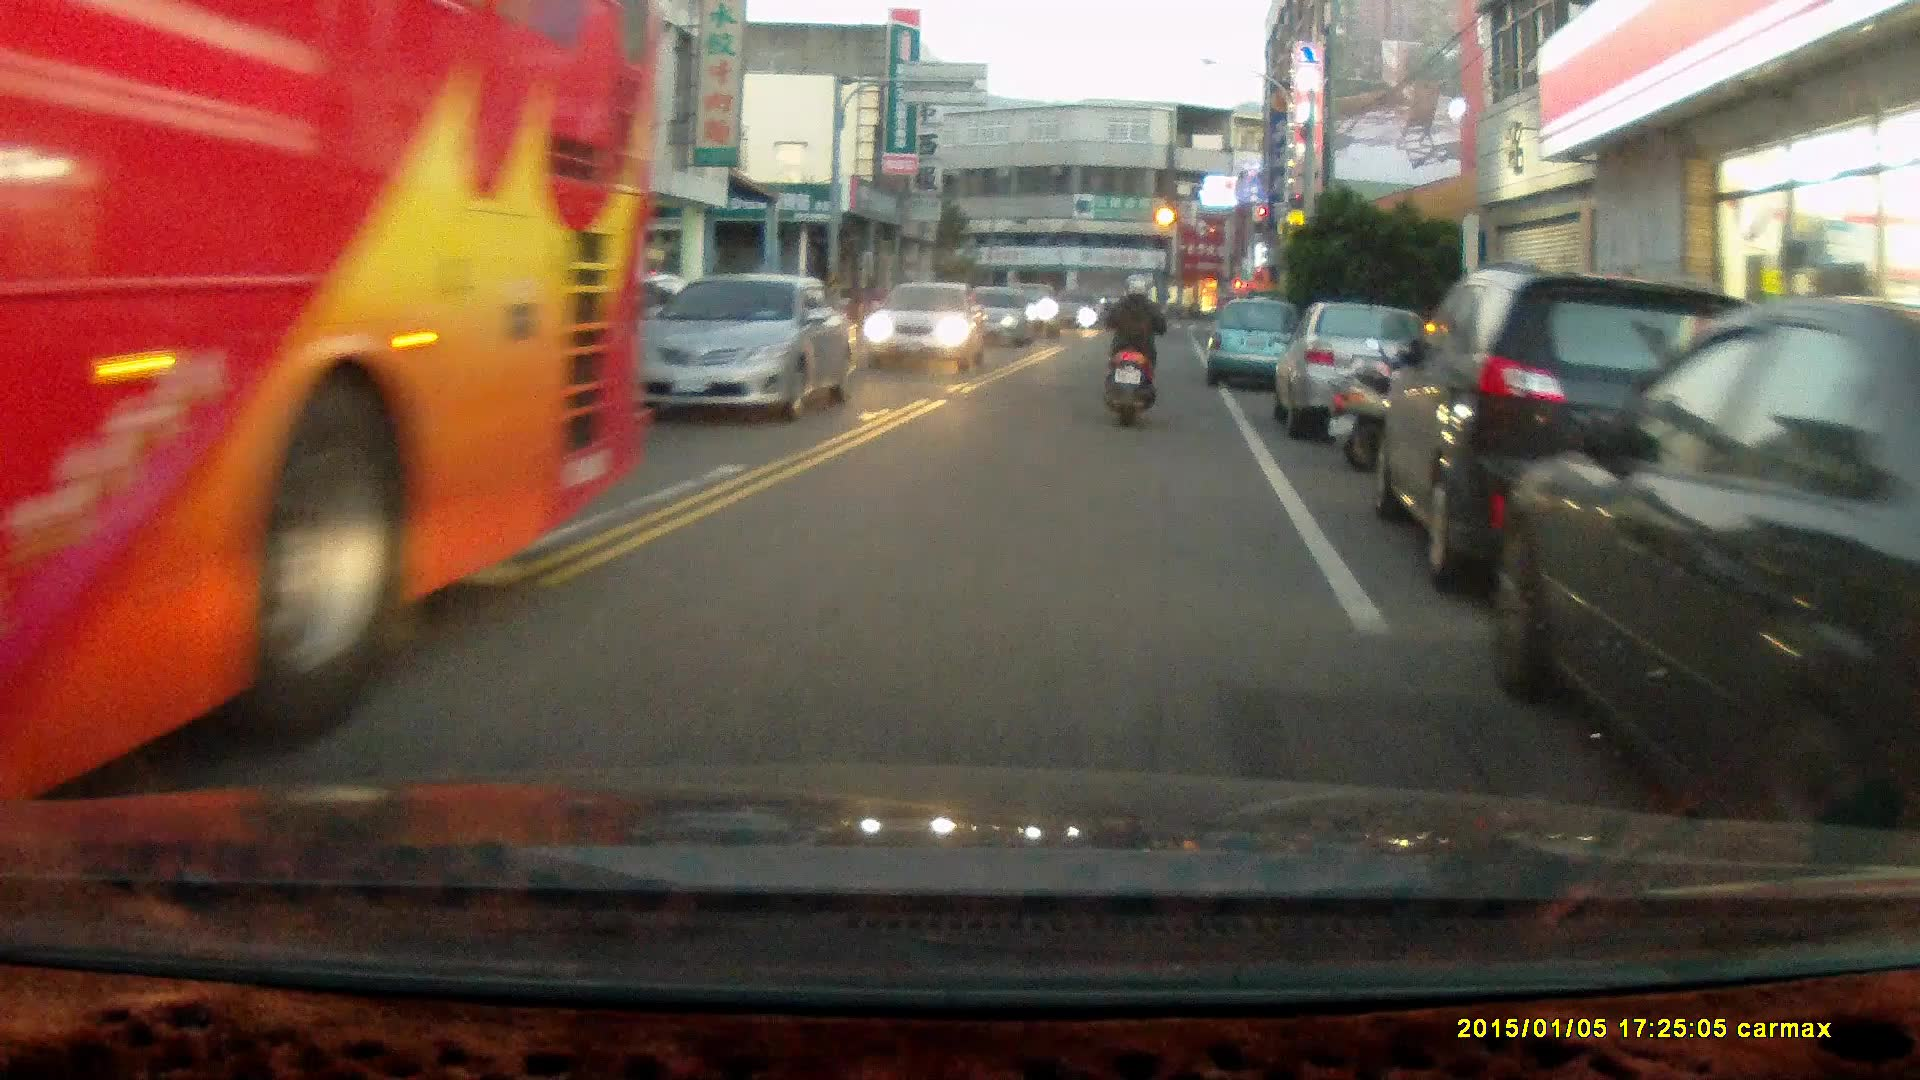rider: (1098, 273, 1166, 431)
vehicle: (1, 9, 652, 801), (1490, 299, 1920, 874), (1371, 265, 1831, 610), (621, 274, 862, 413), (1278, 304, 1451, 447), (865, 283, 989, 375), (1202, 301, 1304, 398), (952, 286, 1039, 351)
